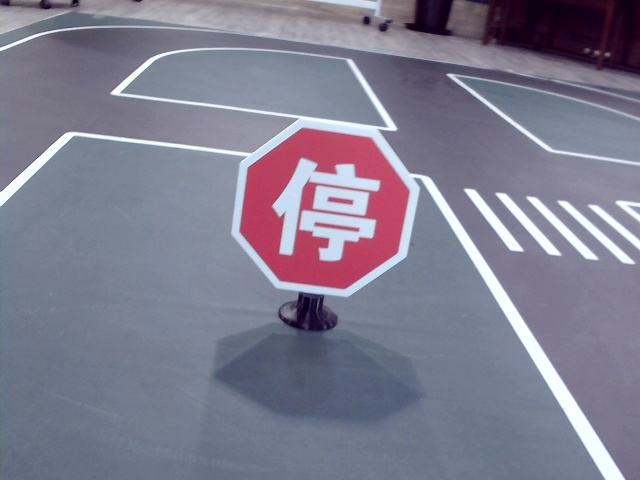stop: (274, 158, 379, 260)
